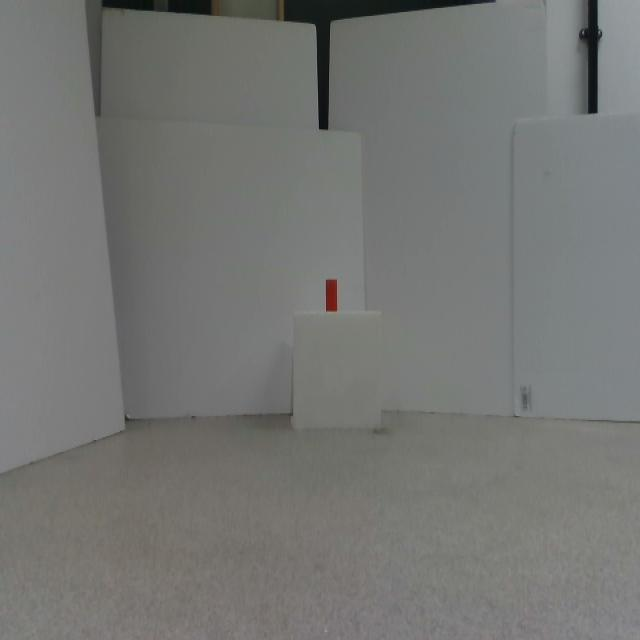red_cylinder: (326, 280, 337, 311)
